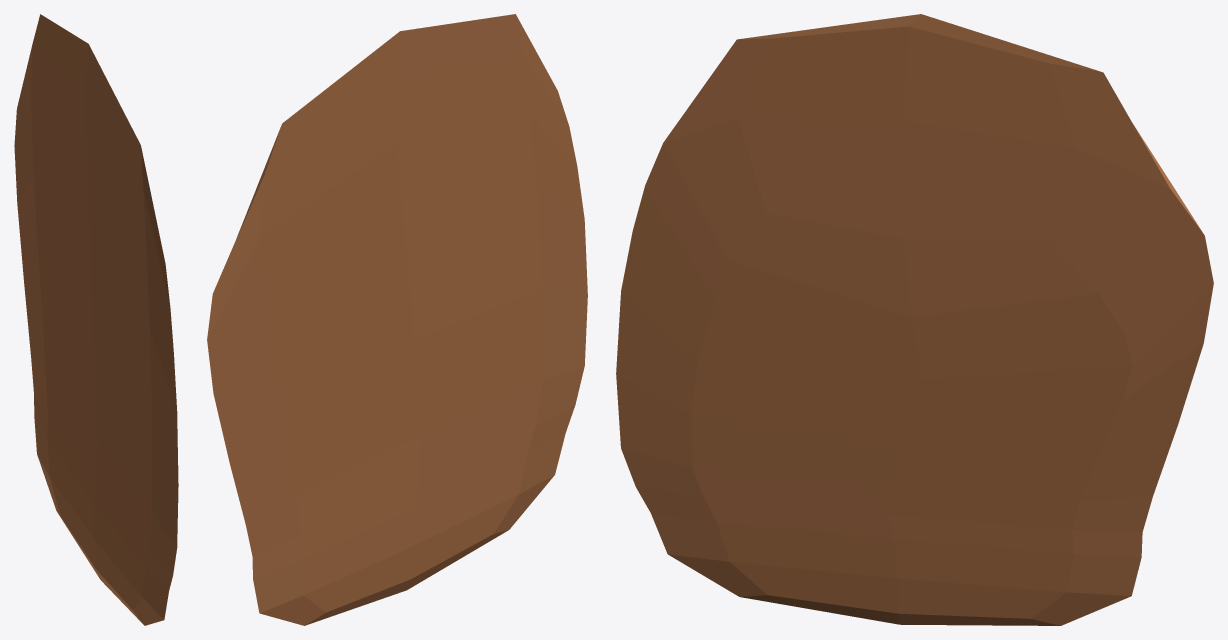
Rendered from aboutme.glb.
3 views of the same model, side by side, from view 1: azimuth 30°, elevation 25°; view 2: azimuth 150°, elevation 25°; view 3: azimuth 270°, elevation 25° (orthographic). The views are drawn at different scales.
Parts seen in each view (by area): view 1: Cube.001; view 2: Cube.001; view 3: Cube.001.
Part boxes in pixels (left/top/right/bottom): Cube.001: left=14, top=14, right=178, bottom=625; Cube.001: left=207, top=14, right=587, bottom=625; Cube.001: left=616, top=14, right=1213, bottom=625.
Size of the model in its own units: 0.1164 by 0.6139 by 0.5459.
